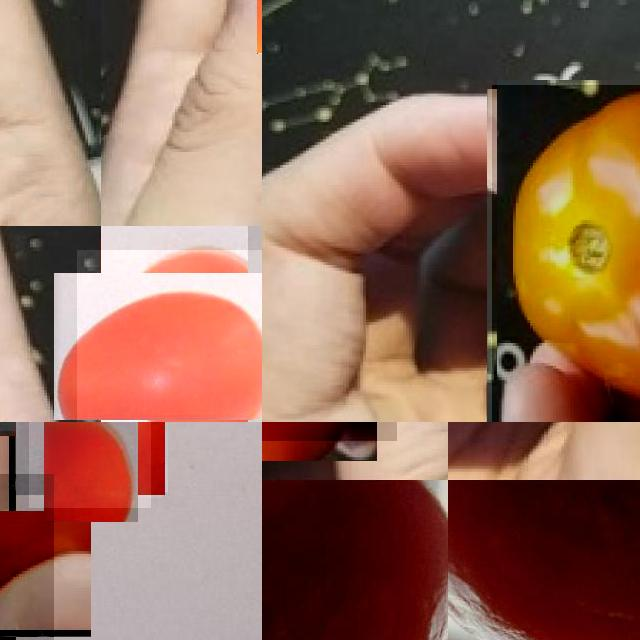Fresh Tomato: (492, 84, 640, 422), (77, 249, 262, 422), (29, 422, 151, 508), (0, 473, 53, 640)
Rotten Tomato: (448, 480, 640, 640), (262, 480, 448, 640)
